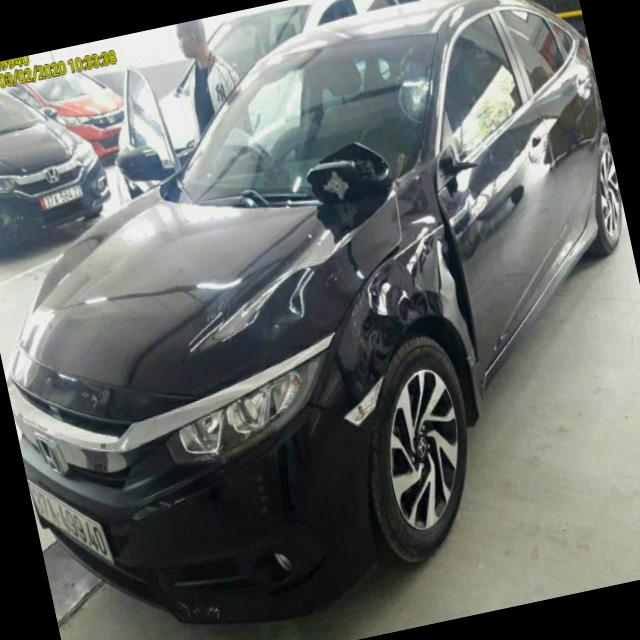Cabossage: (404, 202, 480, 369), (336, 262, 440, 384), (230, 266, 347, 359)
Fissure: (391, 71, 444, 139)
